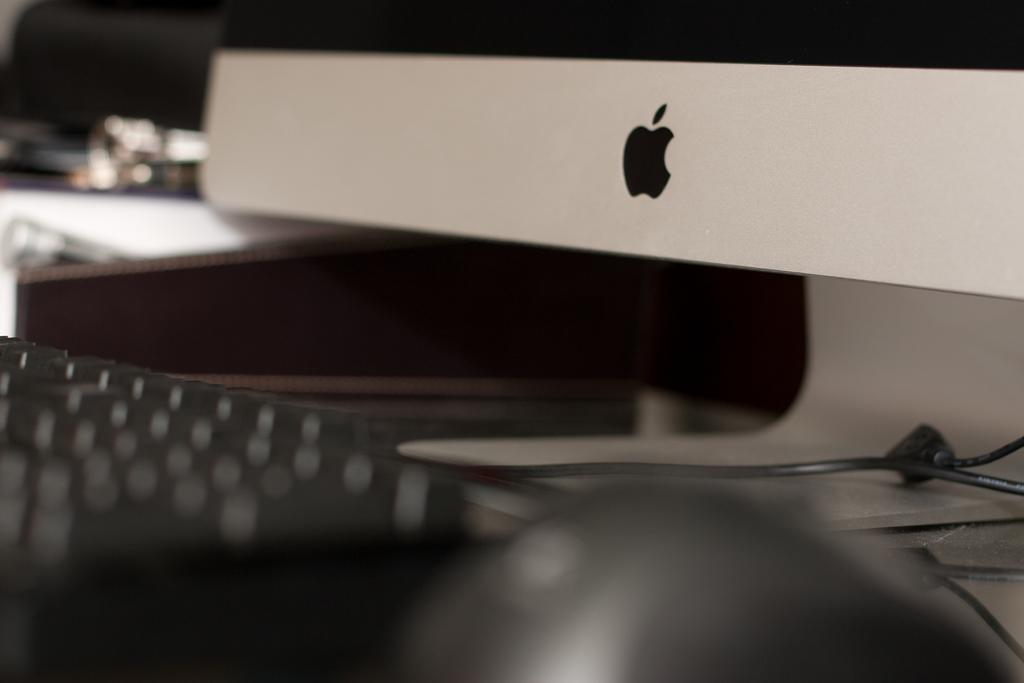Computer-monitor: (193, 0, 1023, 457)
Computer-mouse: (391, 470, 1023, 682)
